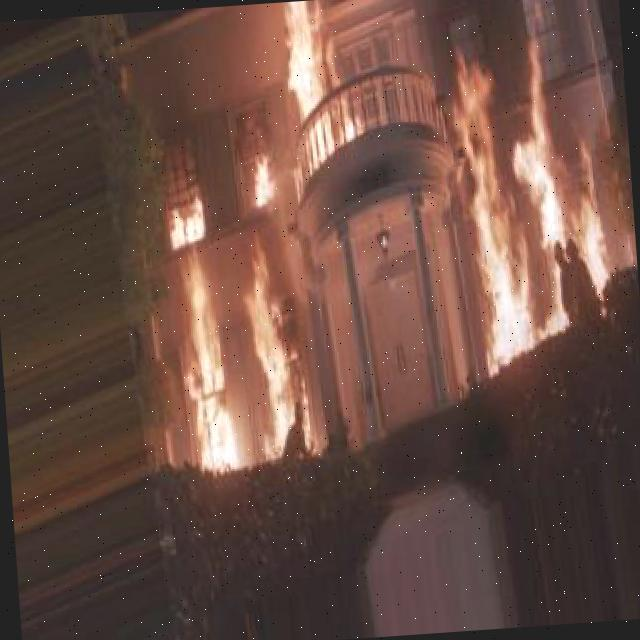Fire: (442, 0, 621, 362), (239, 241, 312, 463), (167, 252, 240, 472), (156, 175, 217, 257), (247, 131, 281, 221)
